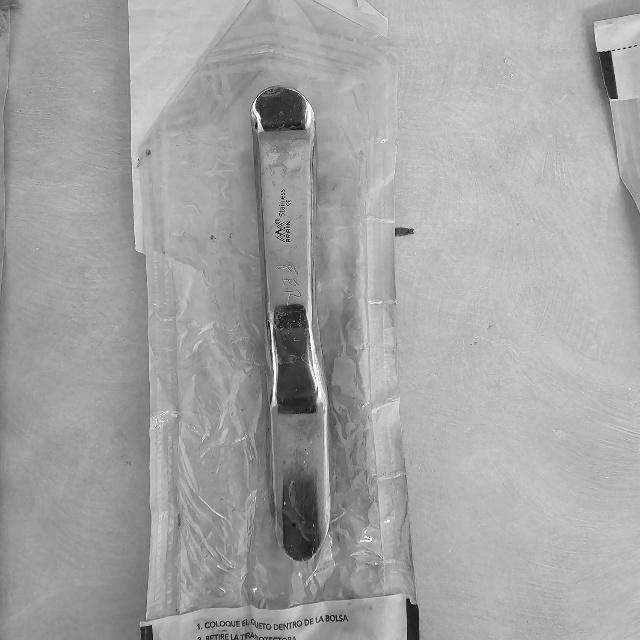separador: (253, 87, 330, 562)
